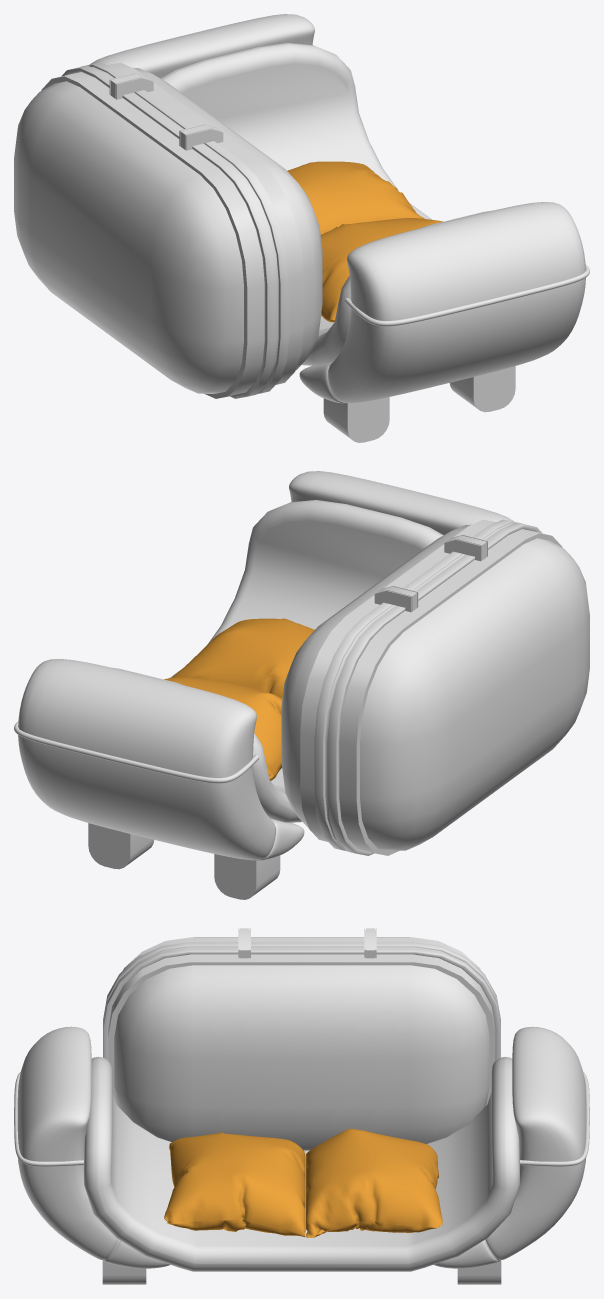
Rendered from Sofa with spheres.fbx.
The picture shows the model from 3 angles, top to bottom: view 1: azimuth 30°, elevation 25°; view 2: azimuth 150°, elevation 25°; view 3: azimuth 270°, elevation 25°; orthographic projection. The views are drawn at different scales.
Visible parts, largest first — view 1: Спинка, Бока, Сидение, Рамка спинки, Подушка 2, Ножка, Подушка 1, Какие-то фиговины, Каемка боков; view 2: Спинка, Бока, Сидение, Рамка спинки, Подушка 1, Ножка, Подушка 2, Какие-то фиговины, Каемка боков; view 3: Спинка, Сидение, Бока, Подушка 1, Подушка 2, Рамка спинки, Ножка, Каемка боков, Какие-то фиговины.
Part boxes in pixels (box(x1,y1,x2,y2)): Спинка: box(14, 62, 322, 398); Бока: box(89, 14, 585, 403); Сидение: box(160, 43, 491, 365); Рамка спинки: box(61, 62, 289, 398); Подушка 2: box(287, 161, 424, 234); Ножка: box(323, 366, 515, 442); Подушка 1: box(320, 218, 442, 322); Какие-то фиговины: box(109, 73, 223, 150); Каемка боков: box(344, 264, 589, 326); Спинка: box(281, 519, 589, 855); Бока: box(18, 471, 514, 860); Сидение: box(112, 500, 443, 822); Рамка спинки: box(314, 519, 542, 855); Подушка 1: box(172, 618, 314, 698); Ножка: box(88, 823, 280, 899); Подушка 2: box(164, 677, 282, 780); Какие-то фиговины: box(374, 534, 487, 612); Каемка боков: box(14, 721, 259, 783); Спинка: box(108, 937, 495, 1150); Сидение: box(84, 1056, 519, 1271); Бока: box(17, 1026, 586, 1268); Подушка 1: box(164, 1132, 305, 1236); Подушка 2: box(306, 1128, 442, 1237); Рамка спинки: box(103, 942, 500, 1060); Ножка: box(102, 1260, 501, 1284); Каемка боков: box(14, 1072, 589, 1166); Какие-то фиговины: box(238, 928, 376, 958).
Size of the model in its own units: 2.06 by 1.45 by 3.02.
